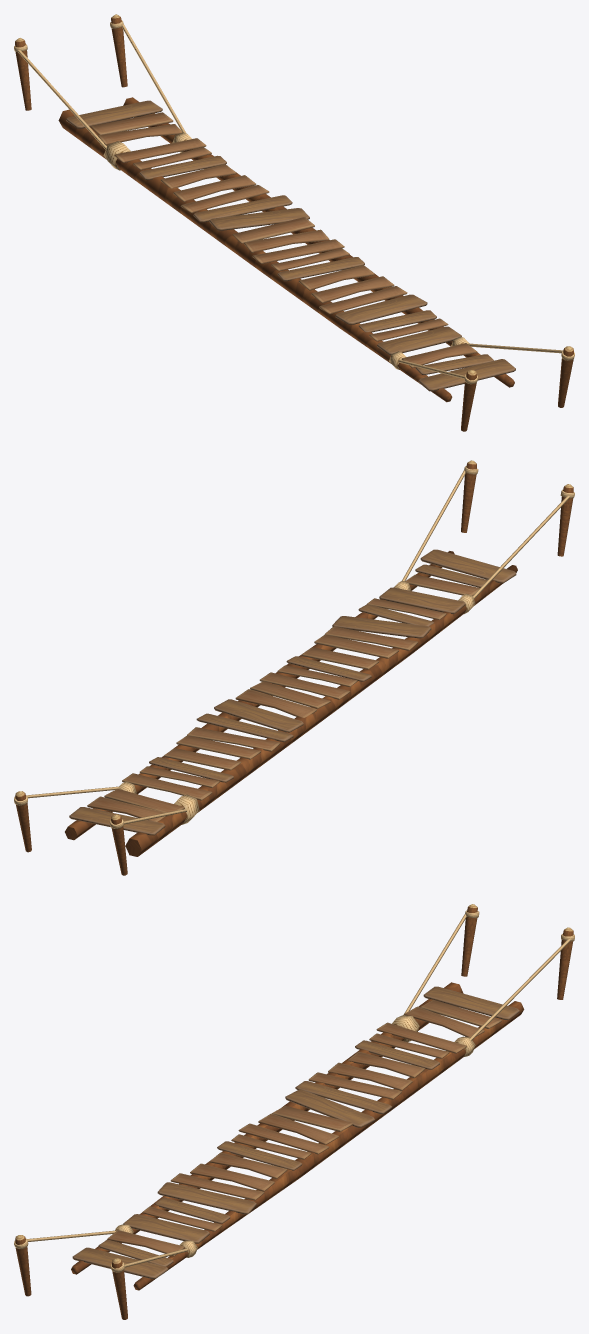
The model's file is Bridge1.fbx.
The picture shows the model from 3 angles, top to bottom: view 1: azimuth 30°, elevation 25°; view 2: azimuth 150°, elevation 25°; view 3: azimuth 330°, elevation 25°; orthographic projection.
Parts seen in each view (by area): view 1: polySurface1146; view 2: polySurface1146; view 3: polySurface1146.
Boxes of the visible parts, box(x1,y1,x2,y2) form: polySurface1146: box(14, 14, 574, 431); polySurface1146: box(14, 460, 574, 875); polySurface1146: box(14, 904, 574, 1319).
Bounding box in the file's own units: 28.52 × 17.91 × 207.
